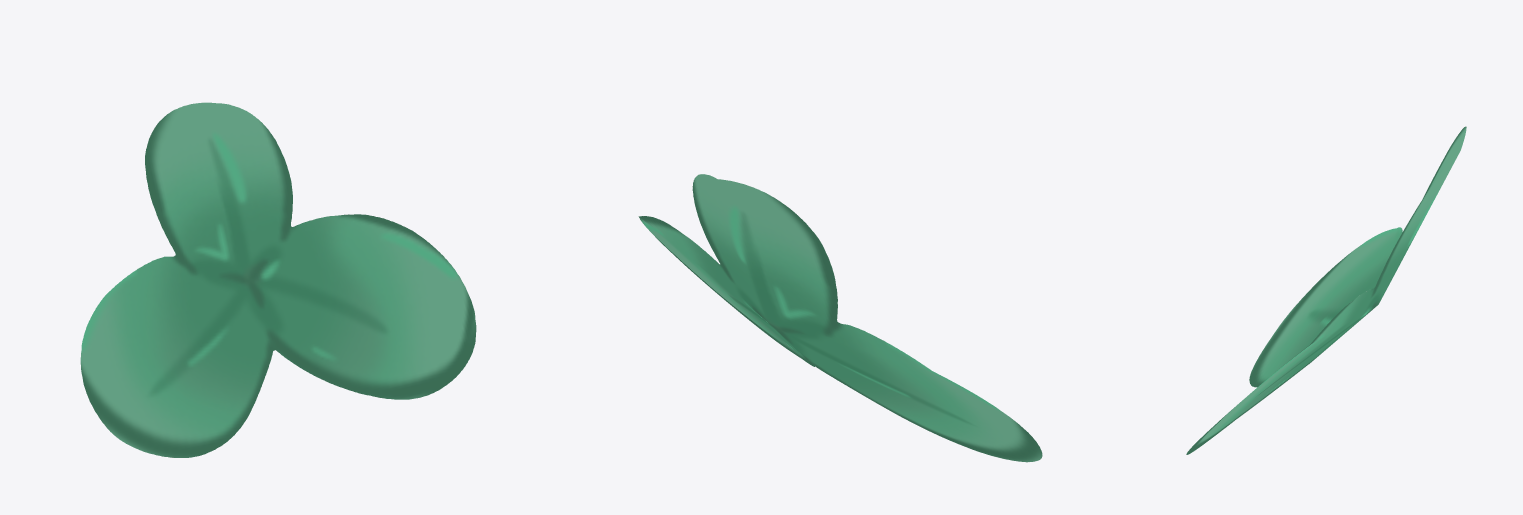
File: Trebol_3Hojas.fbx
3 views of the same model, side by side, from view 1: azimuth 30°, elevation 25°; view 2: azimuth 150°, elevation 25°; view 3: azimuth 270°, elevation 25° (orthographic). The views are drawn at different scales.
Parts seen in each view (by area): view 1: Trebol_3Hojas; view 2: Trebol_3Hojas; view 3: Trebol_3Hojas.
Part boxes in pixels (<box>): Trebol_3Hojas: <box>80,102,476,457</box>; Trebol_3Hojas: <box>638,174,1042,462</box>; Trebol_3Hojas: <box>1186,126,1466,454</box>.
Size of the model in its own units: 99.55 by 88.04 by 78.36.
